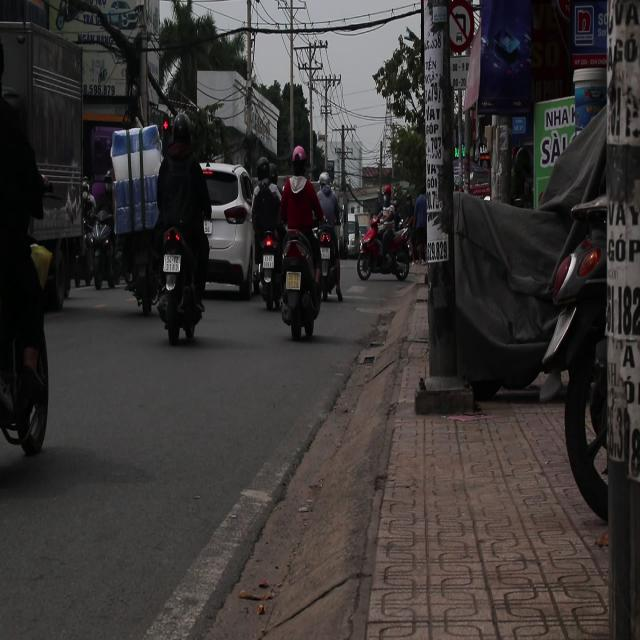car: (200, 161, 256, 301)
motorbike: (151, 220, 207, 346), (278, 221, 324, 343), (247, 188, 286, 316), (310, 199, 344, 320), (357, 219, 411, 281)
